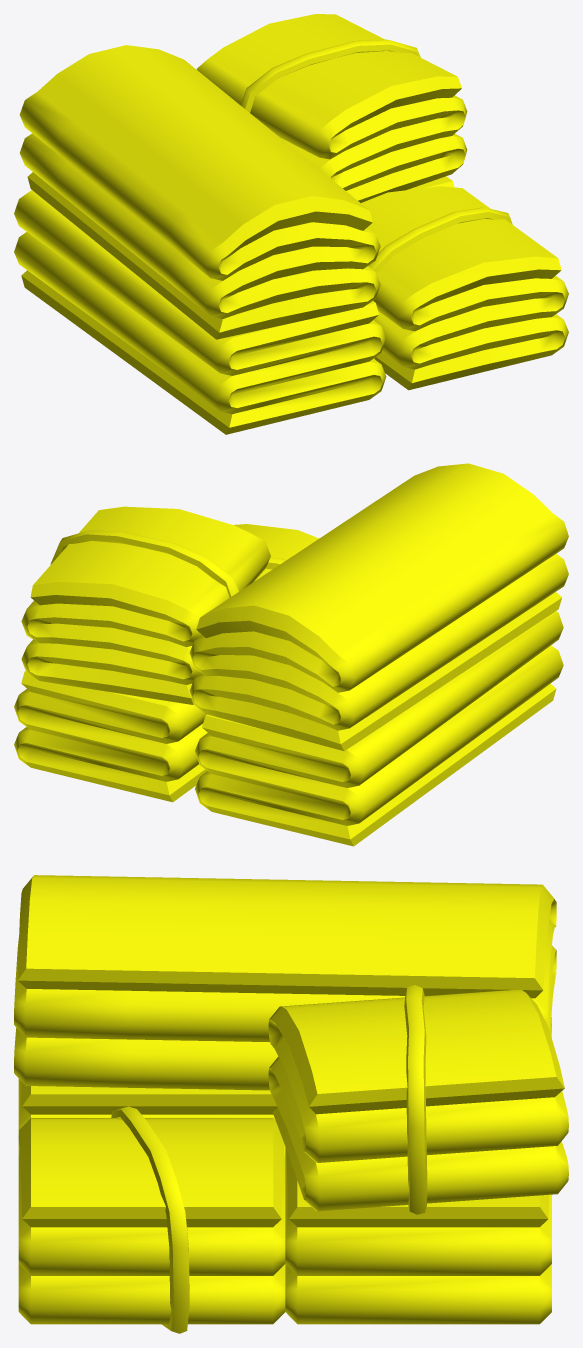
The model's file is kaykit-textiles-stack-large-colored.glb.
3 views of the same model, one above another, from view 1: azimuth 30°, elevation 25°; view 2: azimuth 150°, elevation 25°; view 3: azimuth 270°, elevation 25° (orthographic). The views are drawn at different scales.
Parts seen in each view (by area): view 1: Textiles_Stack_Large_Colored; view 2: Textiles_Stack_Large_Colored; view 3: Textiles_Stack_Large_Colored.
Part boxes in pixels (x1=…): Textiles_Stack_Large_Colored: x1=14, y1=14, x2=568, y2=434; Textiles_Stack_Large_Colored: x1=14, y1=463, x2=568, y2=846; Textiles_Stack_Large_Colored: x1=14, y1=875, x2=568, y2=1333.
Bounding box in the file's own units: 1.64 × 0.9556 × 1.66.
